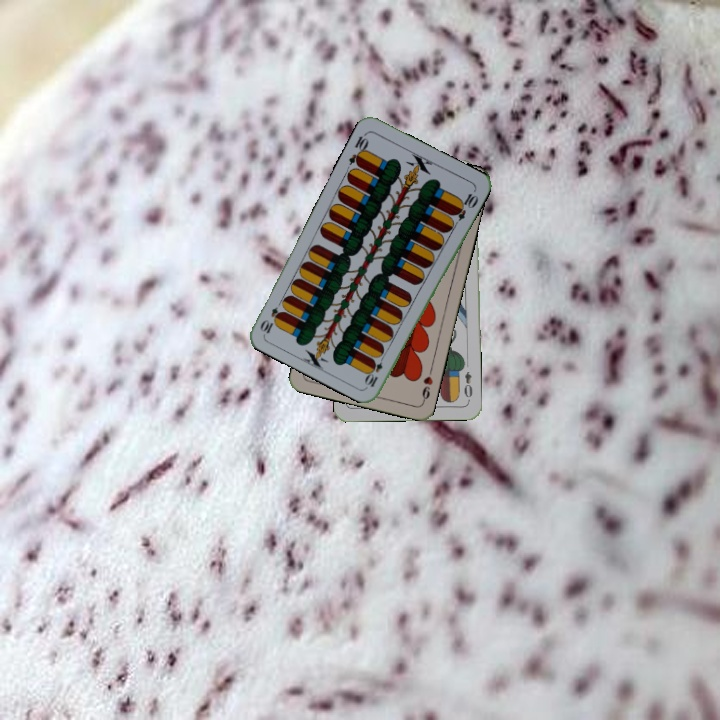E10: (345, 129, 371, 169), (362, 350, 387, 390)
EO: (460, 368, 475, 403)
H9: (418, 365, 435, 405)
